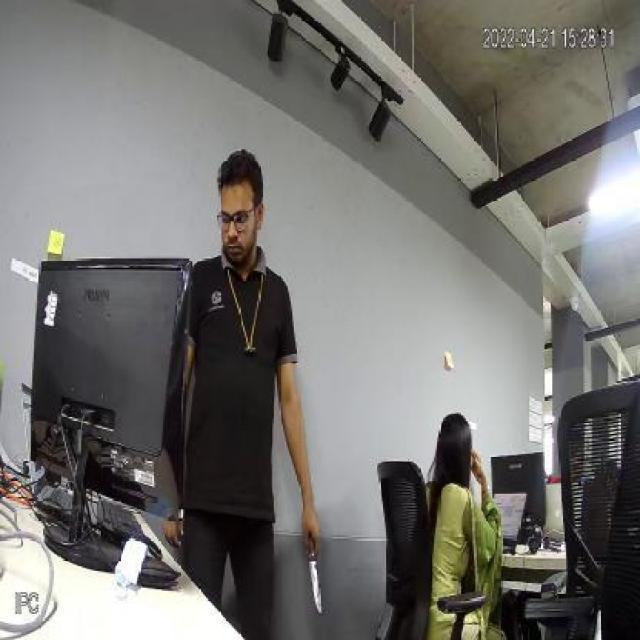-: (295, 530, 328, 619)
